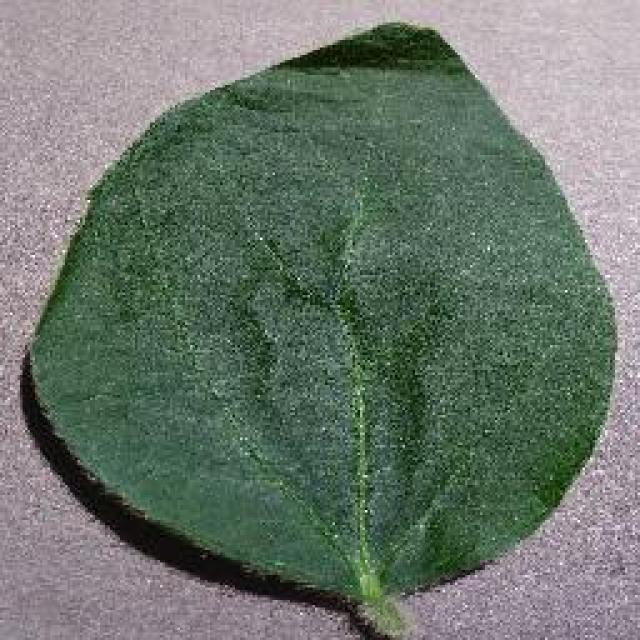Soy_healthy: (43, 63, 619, 578)
